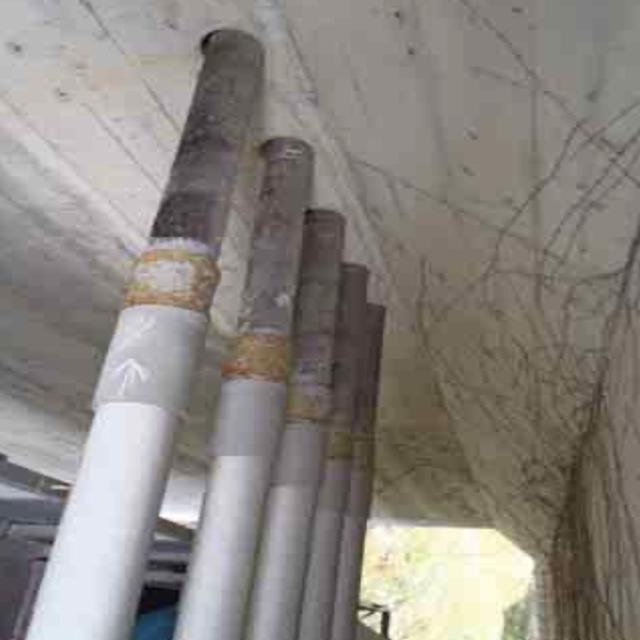corrosion: (120, 221, 300, 406)
